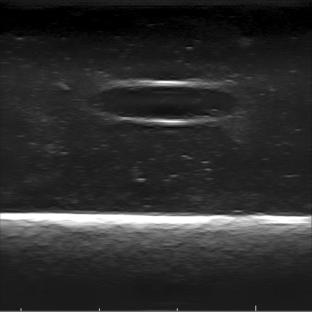vessel: (89, 79, 244, 126)
